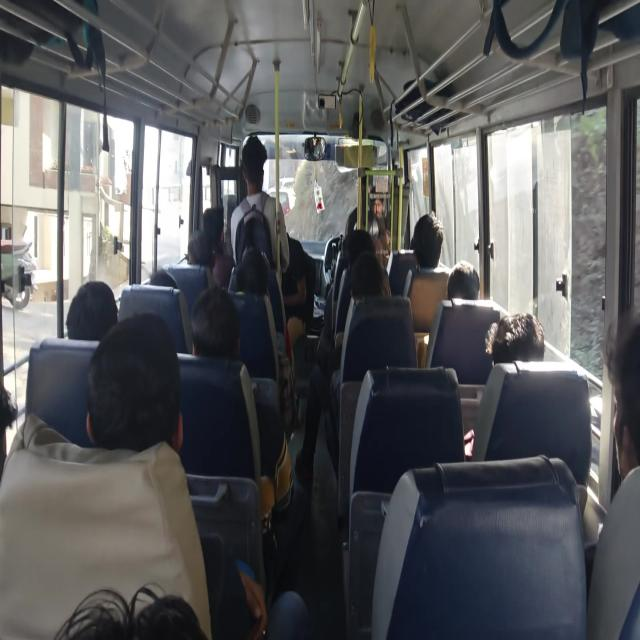person: (586, 346, 640, 579), (267, 217, 338, 348), (485, 318, 580, 414), (92, 324, 167, 430), (59, 279, 133, 347), (193, 295, 249, 371), (220, 264, 276, 318), (230, 138, 269, 196), (354, 253, 393, 306), (449, 258, 491, 305), (145, 267, 178, 315), (413, 216, 444, 263), (237, 239, 267, 279), (201, 209, 225, 253), (184, 232, 211, 271), (337, 221, 362, 250), (398, 223, 422, 250)
